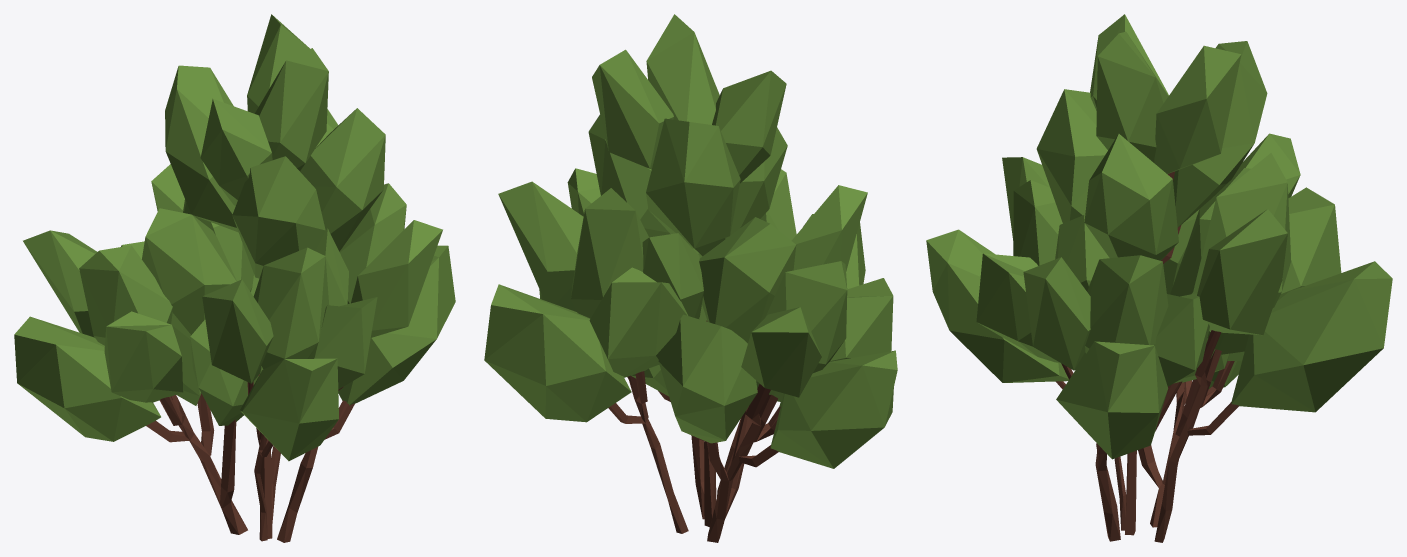
File: SM_RF_AshTree_02.fbx
3 views of the same model, side by side, from view 1: azimuth 30°, elevation 25°; view 2: azimuth 150°, elevation 25°; view 3: azimuth 270°, elevation 25° (orthographic). The views are drawn at different scales.
Visible parts, largest first — view 1: SM_RF_AshTree_02; view 2: SM_RF_AshTree_02; view 3: SM_RF_AshTree_02.
Boxes of the visible parts, box(x1,y1,x2,y2) form: SM_RF_AshTree_02: box(14, 14, 455, 542); SM_RF_AshTree_02: box(484, 14, 897, 542); SM_RF_AshTree_02: box(926, 14, 1392, 542).
Size of the model in its own units: 271 by 317 by 257.
